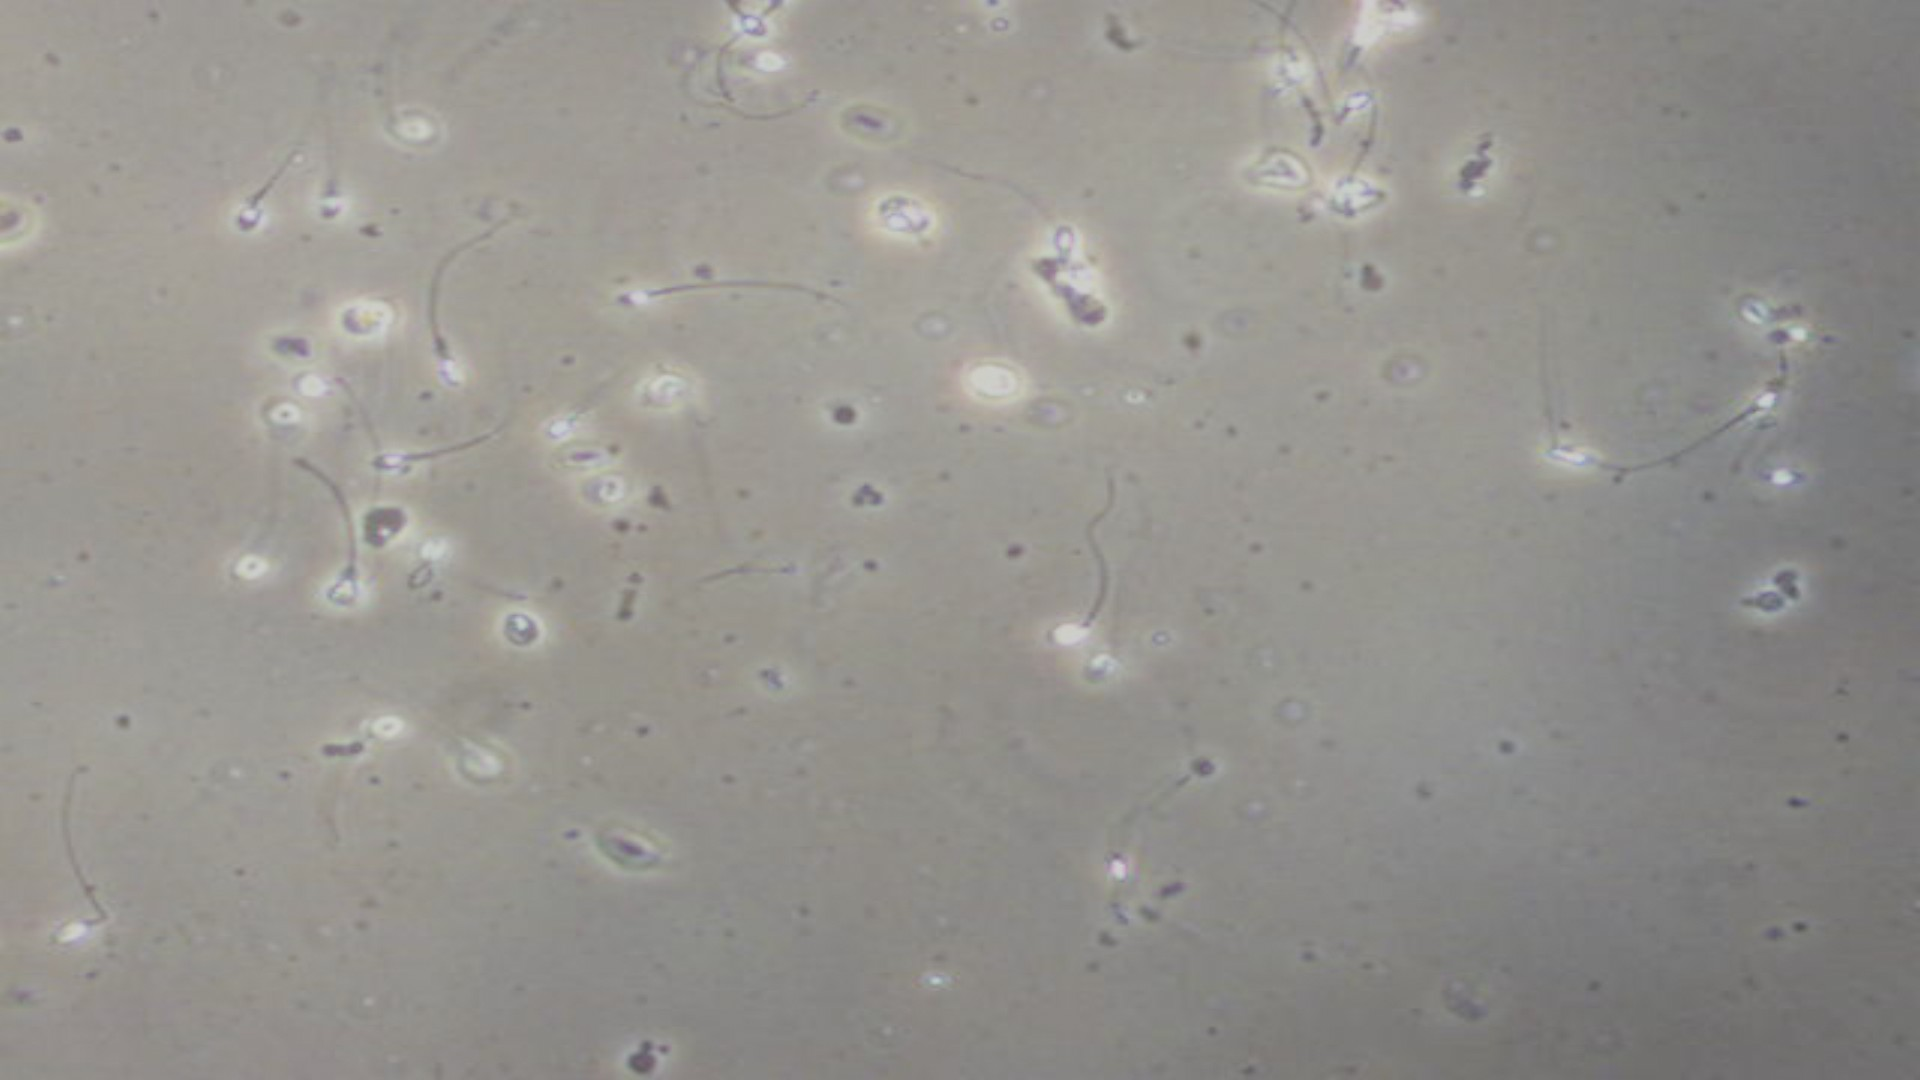sperm: (36, 796, 138, 957), (289, 458, 375, 607), (615, 266, 800, 334), (1038, 527, 1114, 667), (1535, 418, 1664, 496), (415, 222, 473, 392), (368, 425, 496, 492), (218, 161, 303, 233), (1009, 198, 1093, 266), (1313, 80, 1385, 135)
